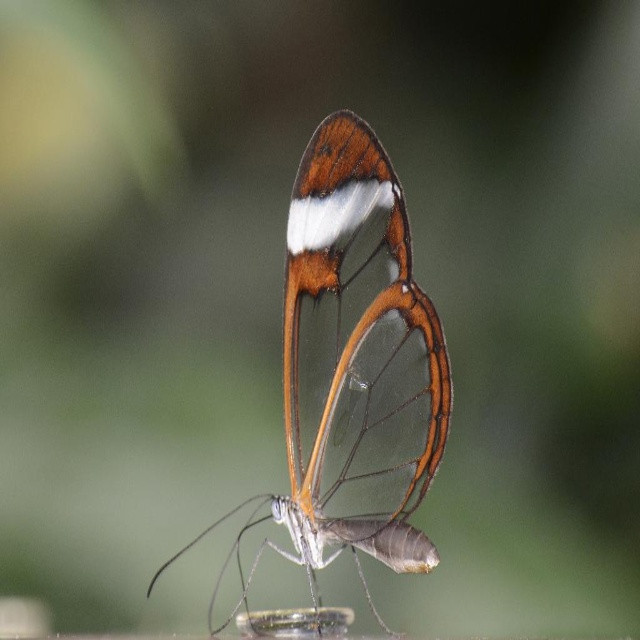Butterfly: (231, 100, 452, 623)
